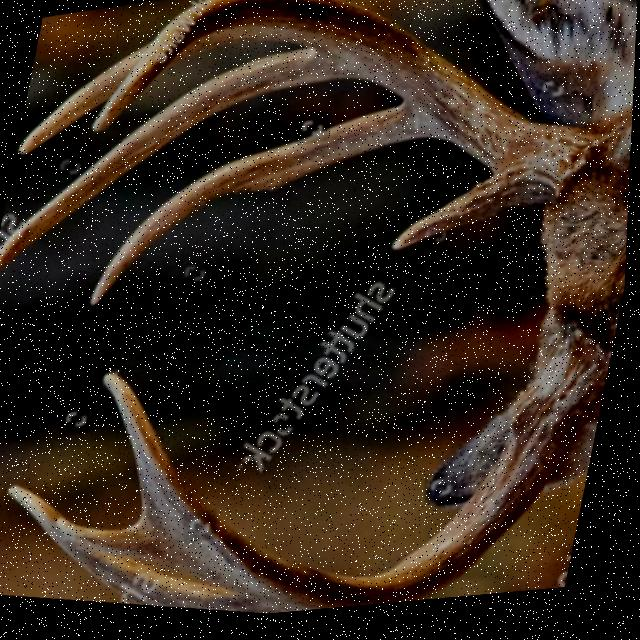E1: (60, 518, 173, 565)
L-F: (106, 332, 615, 618)
R-F: (93, 0, 621, 213)
R-G1: (393, 181, 526, 258)
R-G2: (92, 108, 439, 306)
R-G3: (0, 51, 361, 273)
